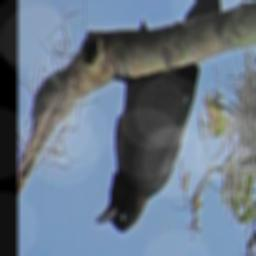Crow: (96, 0, 222, 232)
